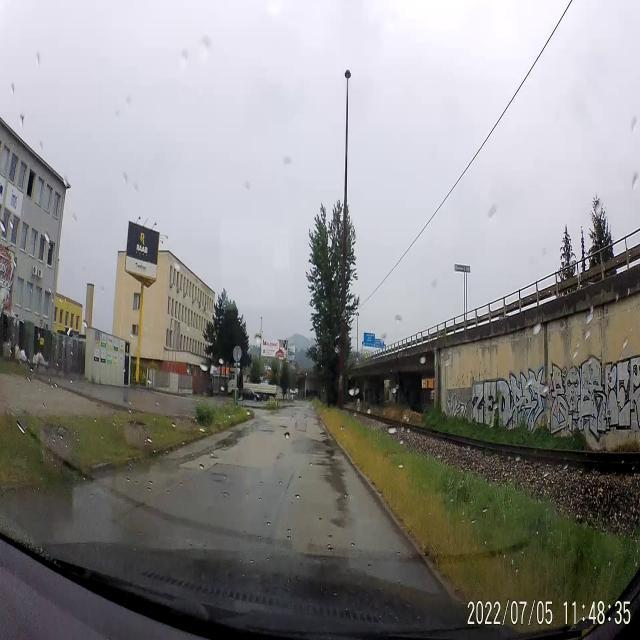Pothole: (291, 430, 334, 467), (260, 422, 272, 438)
